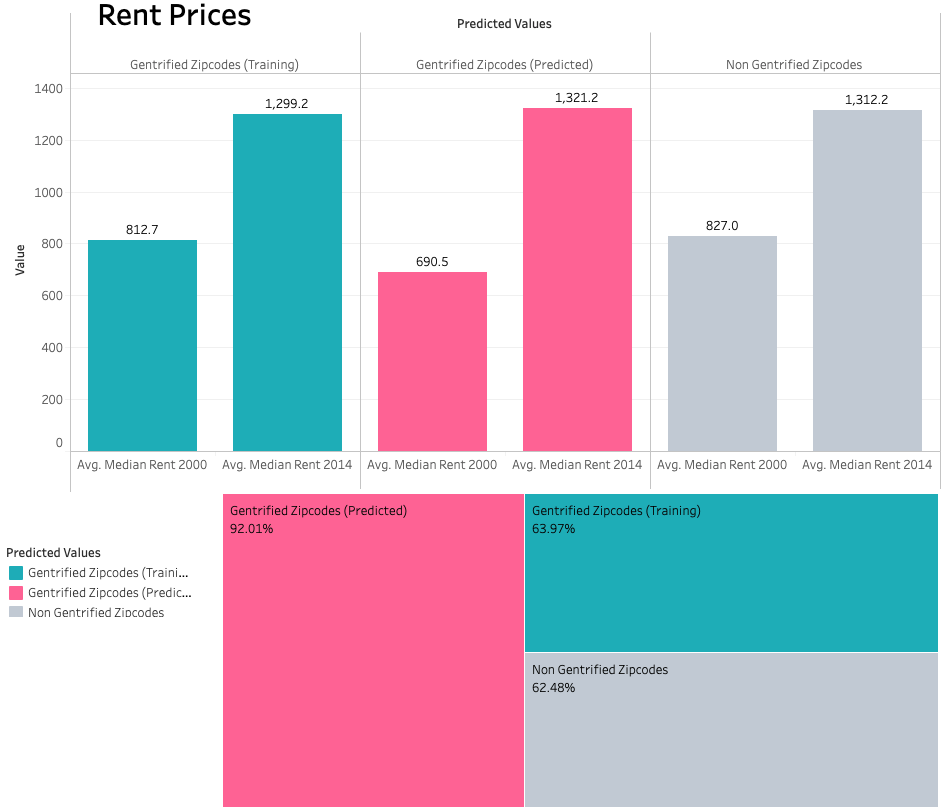

Layout of this report page (visuals, bound fields, positions):
{"tool":"tableau","page":{"name":"Rent Dash","canvas":[1000,1000],"units":"permille","ordinal":3},"visuals":[{"type":"worksheet","title":"Rent ","mark":"Automatic","cols":["Calculation_1587730022345760768"],"box":[5.3,14,987.4,588.4]},{"type":"worksheet","title":"% Change Rent","mark":"Automatic","box":[231.6,598.8,762.1,397.7]},{"type":"legend","title":"Rent ","param":"[federated.19ae5670mp3f5q13hyhu20nwgh4b].[none:Calculation_1587730022345760768:n","box":[8.4,666.3,214.7,90.7]}]}

Visuals, with their boxes on the dashboard's canvas, which has no fixed pixel size, in thousandths of its width and height (x1, y1, x2, y2). These are canvas units, not pixel positions in the 943x811 screenshot, which may show the page scaled, cropped or inside an application window:
"Rent " worksheet: Rect(5, 14, 993, 602)
"% Change Rent" worksheet: Rect(232, 599, 994, 996)
"Rent " legend: Rect(8, 666, 223, 757)
